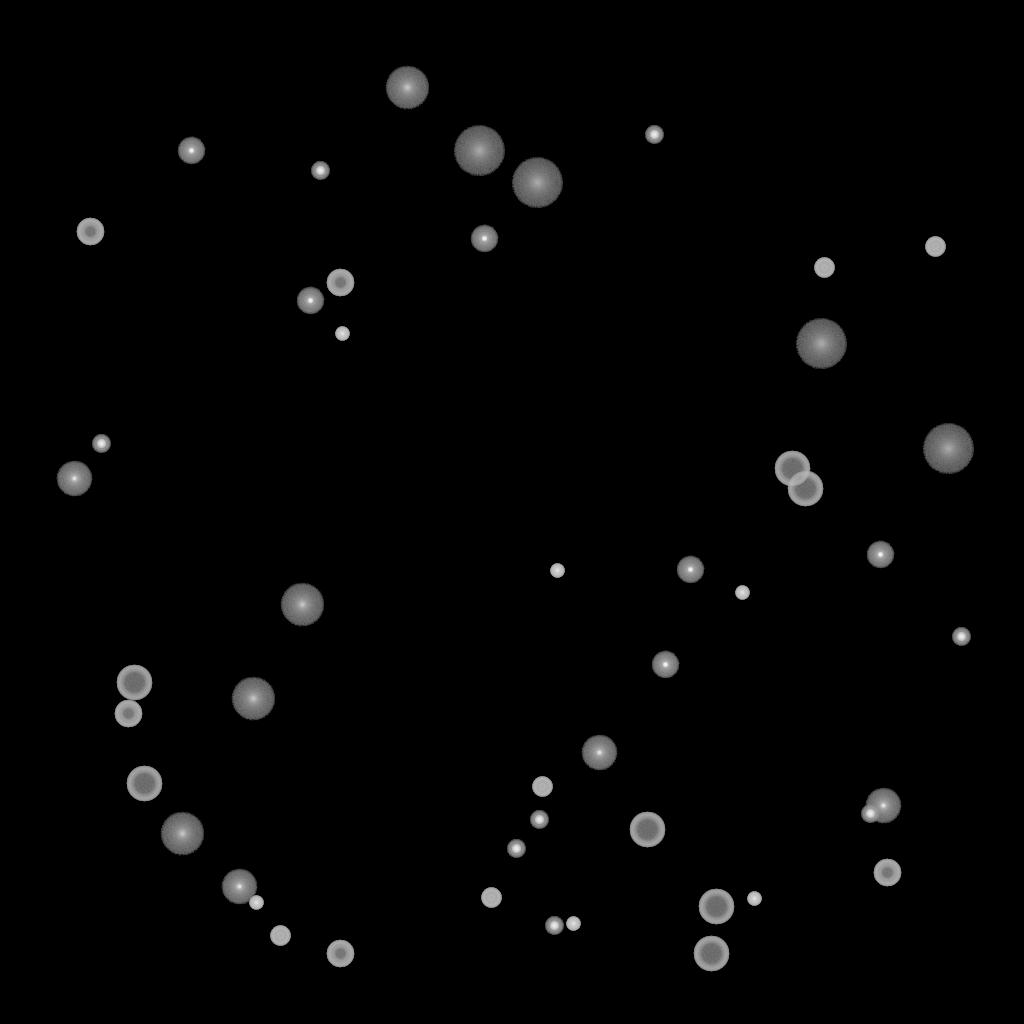depth:-10: (651, 651, 679, 679), (866, 541, 894, 569), (177, 137, 205, 165), (296, 287, 324, 315), (676, 556, 704, 584), (470, 225, 498, 253)
depth:-20: (92, 435, 110, 453), (507, 840, 525, 858), (530, 811, 548, 829), (311, 162, 329, 180), (545, 917, 563, 935), (952, 628, 970, 646), (645, 126, 663, 144), (861, 805, 879, 823)
depth:-30: (249, 896, 263, 910), (747, 892, 761, 906), (550, 564, 564, 578), (335, 327, 349, 341), (566, 917, 580, 931), (735, 586, 749, 600)
depth:-40: (532, 777, 552, 797), (481, 888, 501, 908), (925, 237, 945, 257), (814, 258, 834, 278), (270, 926, 290, 946)
depth:-50: (326, 269, 354, 297), (114, 700, 142, 728), (326, 940, 354, 968), (873, 859, 901, 887), (76, 218, 104, 246)
depth:-60: (116, 665, 152, 701), (698, 889, 734, 925), (787, 471, 823, 507), (774, 451, 810, 487), (126, 766, 162, 802), (693, 936, 729, 972), (629, 812, 665, 848)
depth:0: (581, 735, 617, 771), (865, 788, 901, 824), (221, 869, 257, 905), (56, 461, 92, 497)
depth:10: (231, 677, 275, 721), (160, 812, 204, 856), (385, 66, 429, 110), (280, 583, 324, 627)
depth:20: (922, 424, 974, 474), (795, 319, 847, 369), (453, 126, 505, 176), (511, 158, 563, 208)
